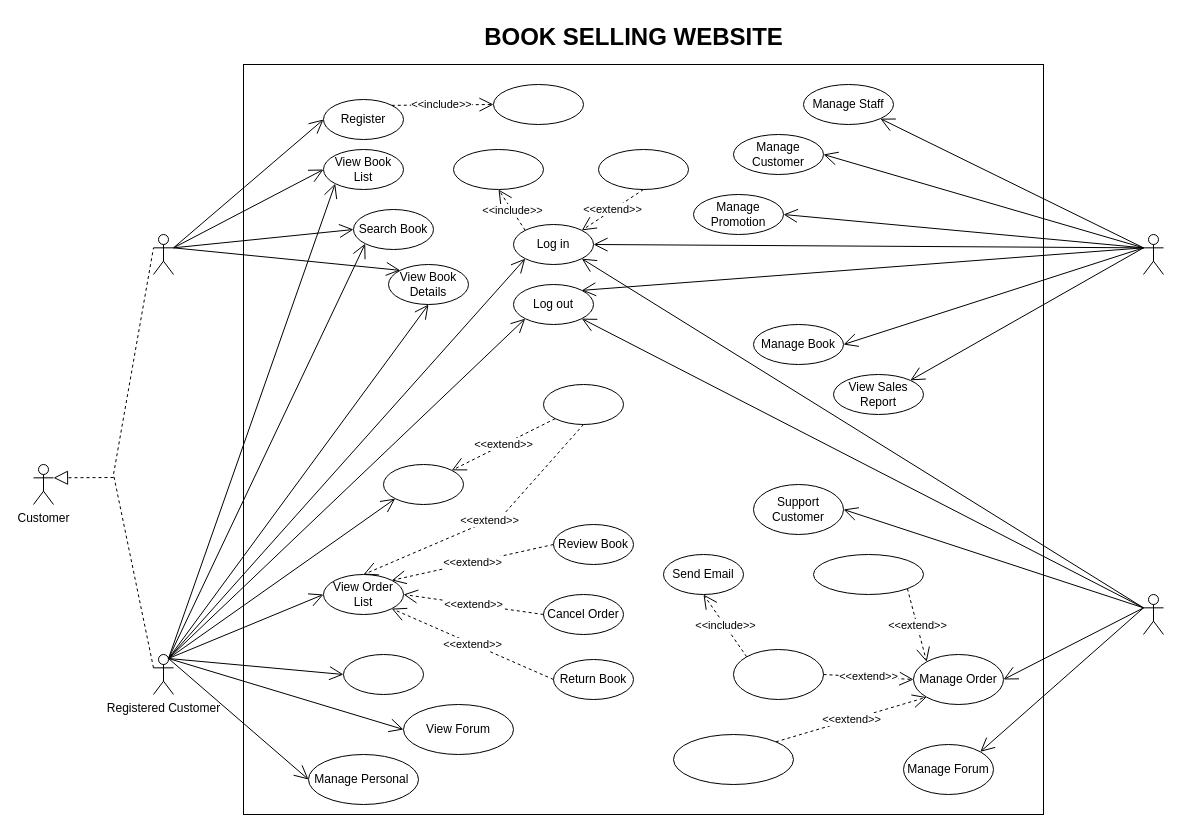
Image size: 1188x832. Some labels were removed from this diagram. Each missing label, with the centre of its shape:
Confirm Order: the point at 778,674
Forgot Password: the point at 643,169
Manage Book Reviews: the point at 868,574
Manage Cart: the point at 423,484
Owner: the point at 1153,254
Pay Order: the point at 583,404
Process Returned Book: the point at 733,759
Request Support: the point at 383,674
Staff: the point at 1153,614
Unregistered Customer: the point at 163,254
Verify Account: the point at 498,169
Verify Email: the point at 538,104
